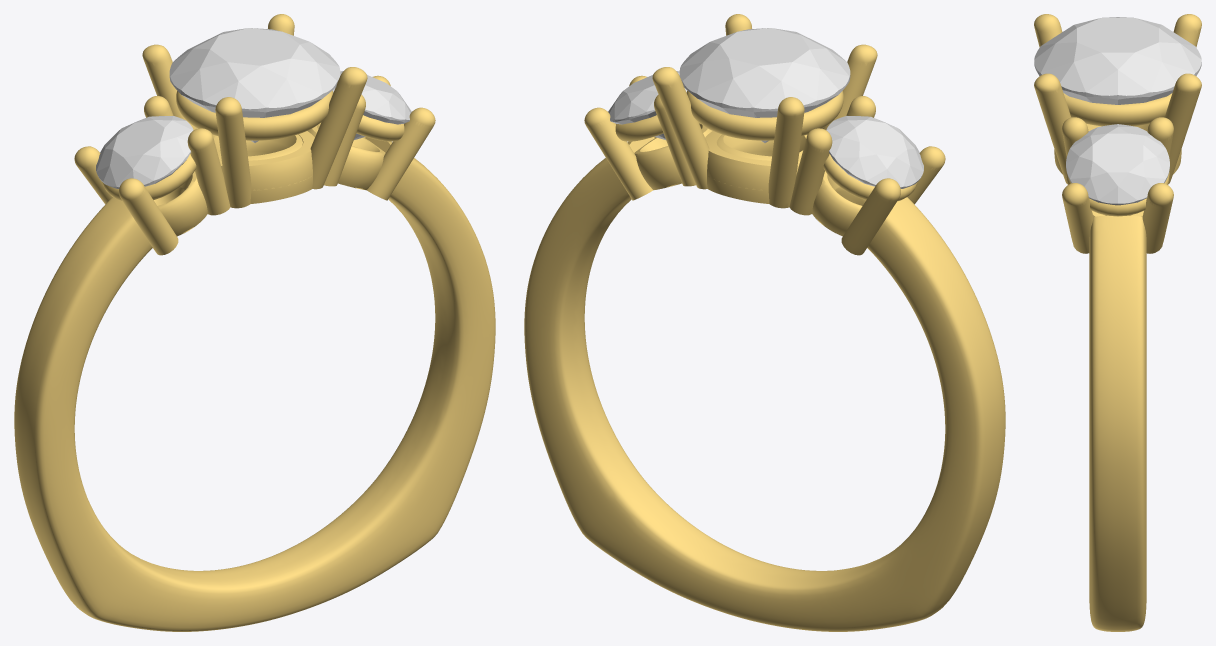
The model's file is diamond-round-yellowgold-4prong-europeanshank-2stone.glb.
The picture shows the model from 3 angles, left to right: view 1: azimuth 30°, elevation 25°; view 2: azimuth 150°, elevation 25°; view 3: azimuth 270°, elevation 25°; orthographic projection. The views are drawn at different scales.
Parts seen in each view (by area): view 1: metal, stone, side, side.001; view 2: metal, stone, side, side.001; view 3: metal, stone, side.001.
Part boxes in pixels (box(x1,y1,x2,y2)): metal: box(14, 14, 495, 631); stone: box(169, 28, 340, 142); side: box(96, 116, 193, 188); side.001: box(332, 71, 411, 139); metal: box(524, 14, 1005, 631); stone: box(679, 28, 850, 142); side: box(826, 116, 923, 188); side.001: box(608, 71, 687, 139); metal: box(1034, 14, 1201, 631); stone: box(1034, 17, 1201, 104); side.001: box(1066, 124, 1169, 205).
Bounding box in the file's own units: 20.11 × 23.61 × 6.45.
